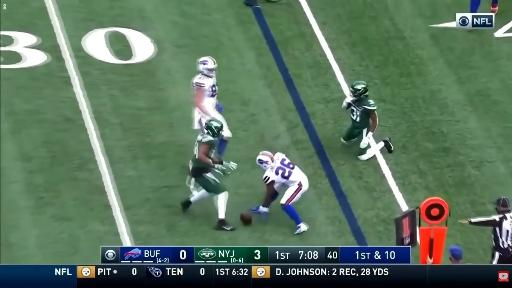Helmet: (197, 56, 217, 77), (204, 119, 223, 138), (350, 81, 368, 98), (257, 151, 273, 170)
Jersey: (263, 153, 306, 186), (192, 134, 217, 171), (192, 74, 217, 109), (350, 97, 376, 129)
Player: (181, 119, 237, 230), (252, 152, 308, 234), (341, 81, 393, 160), (192, 56, 231, 156), (470, 0, 481, 13)
